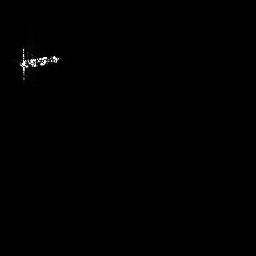ship: (19, 54, 59, 69)
